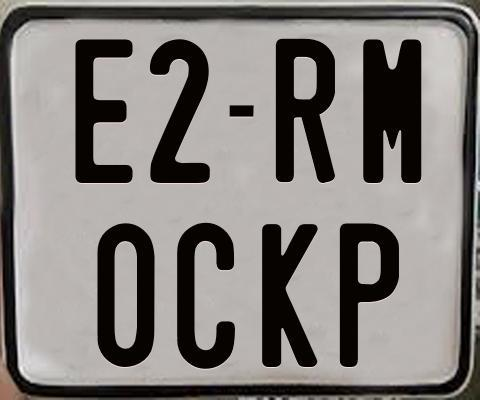0: (96, 223, 155, 370)
2: (148, 37, 209, 184)
C: (175, 220, 239, 369)
E: (75, 37, 134, 185)
K: (261, 221, 318, 366)
M: (362, 39, 422, 188)
P: (340, 223, 404, 368)
R: (275, 38, 339, 188)
